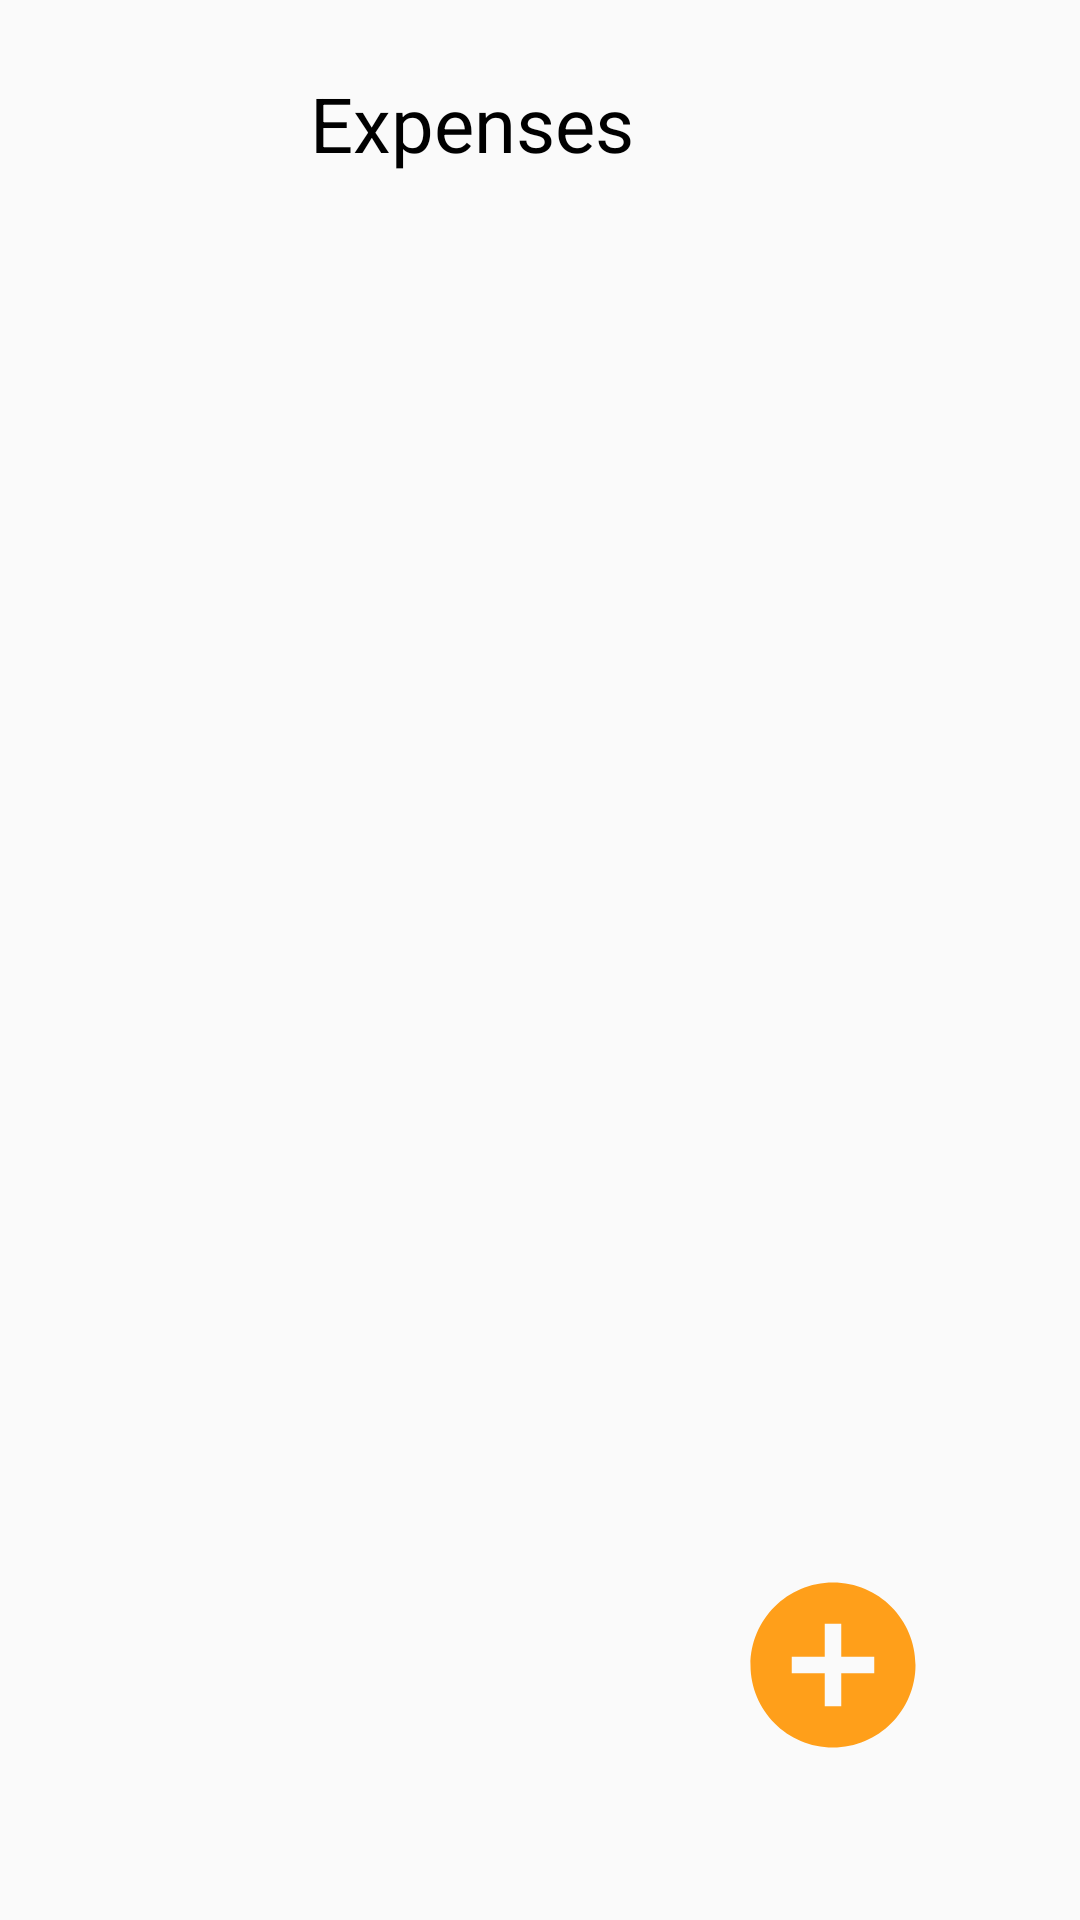

Icon bounding boxes for this 1080*1920 phone screenshot, format (x1, y1, x2, y2):
add circle: (750, 1582, 916, 1748)
